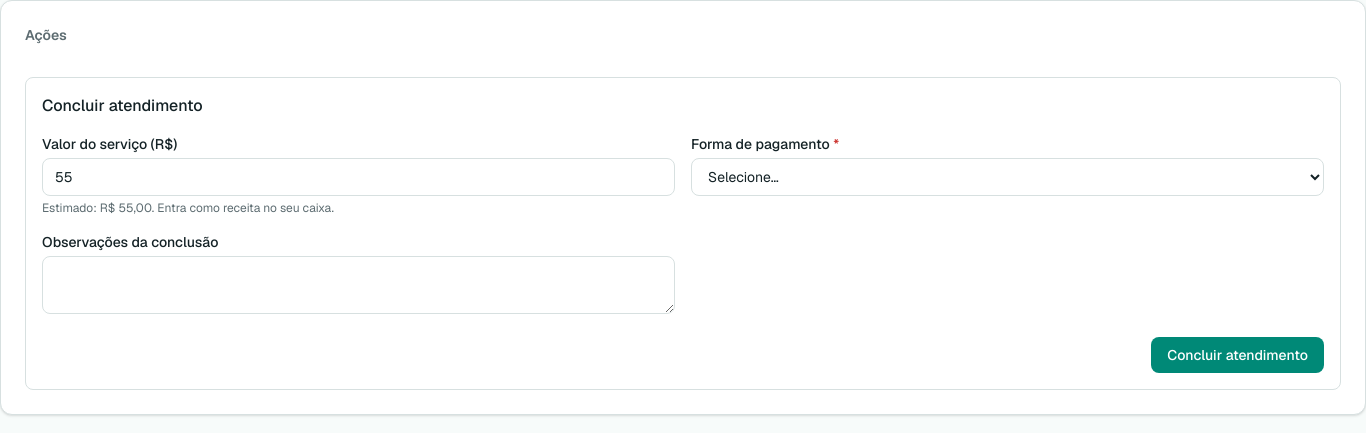
conclusão do agendamento com financeiro › com caixa aberto exige a forma de pagamento
The image size is (1366, 433).
Click the button "Concluir atendimento" at {"x": 1238, "y": 355}, box [1151, 337, 1324, 373]
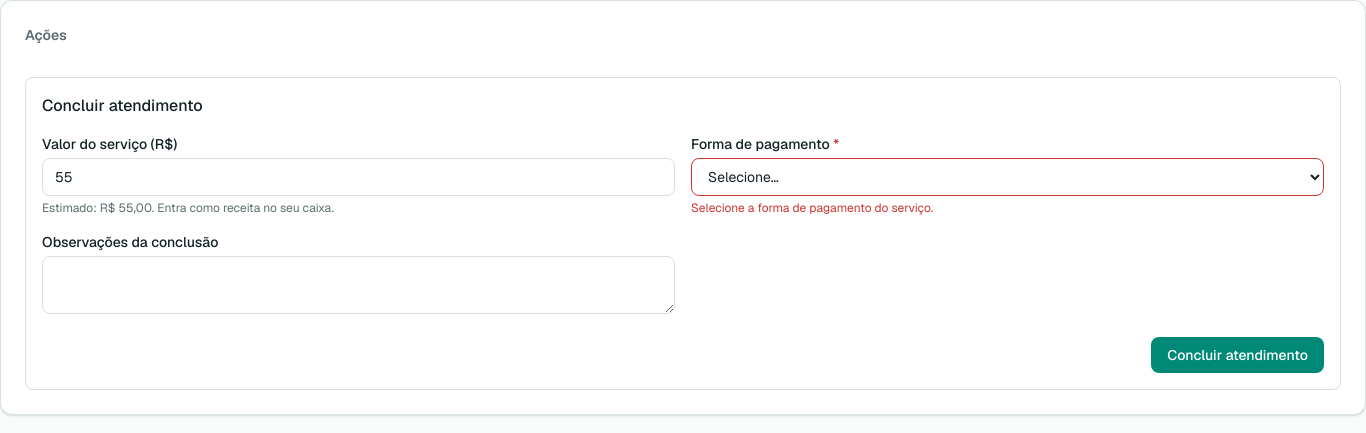
expect the text "Selecione a forma de pagamento do serviço." is shown: met, box [691, 200, 933, 216]
